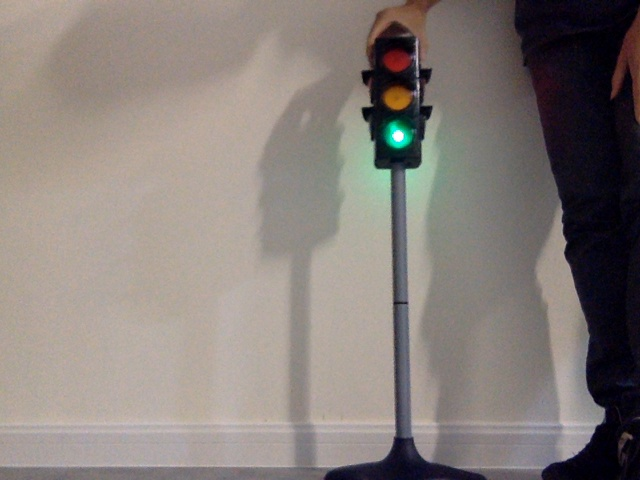green: (374, 42, 416, 155)
